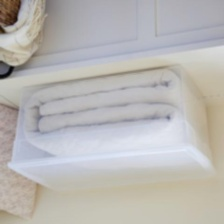plastic_box: (1, 58, 222, 198)
